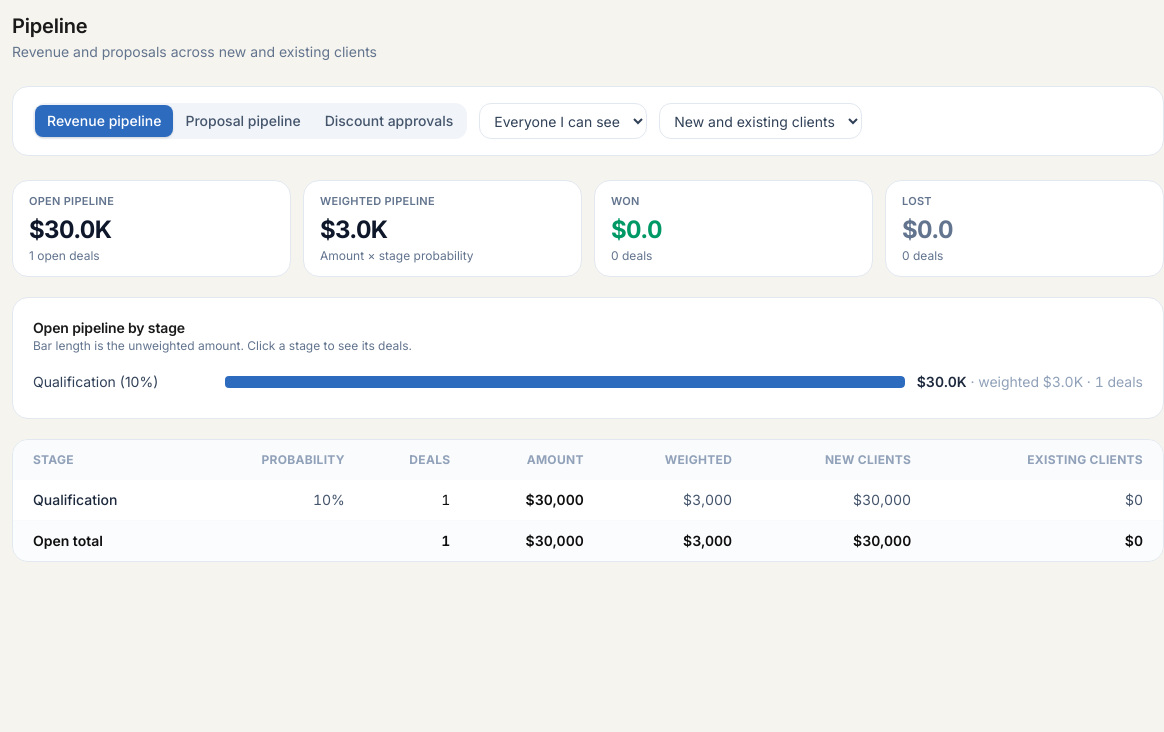
Test: Pipeline page › switches to the proposal pipeline
The image size is (1164, 732).
Expected: the heading "Open pipeline by stage" is shown, [33,318,185,336]
Click the button "Proposal pipeline" at (243, 121), box [173,105,313,137]
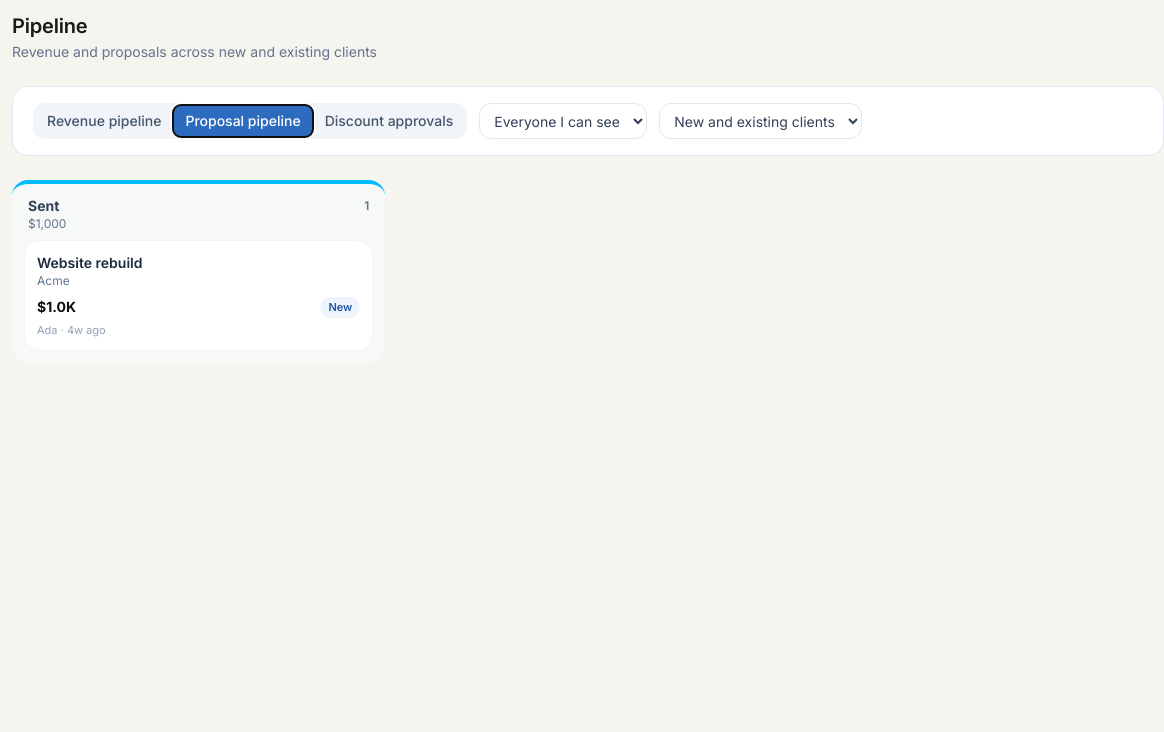
Result: the text "Website rebuild" is shown at [37,254,142,271]
